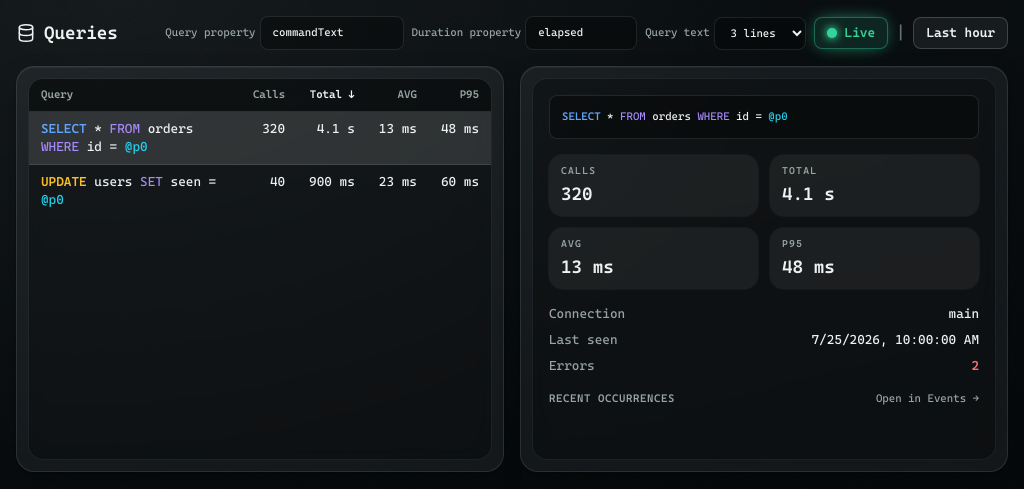
clicking another row swaps the detail pane
This screenshot has width=1024, height=489.
Click the cell titled "UPDATE users SET seen = @p0": click(135, 191) [29,164,241,217]
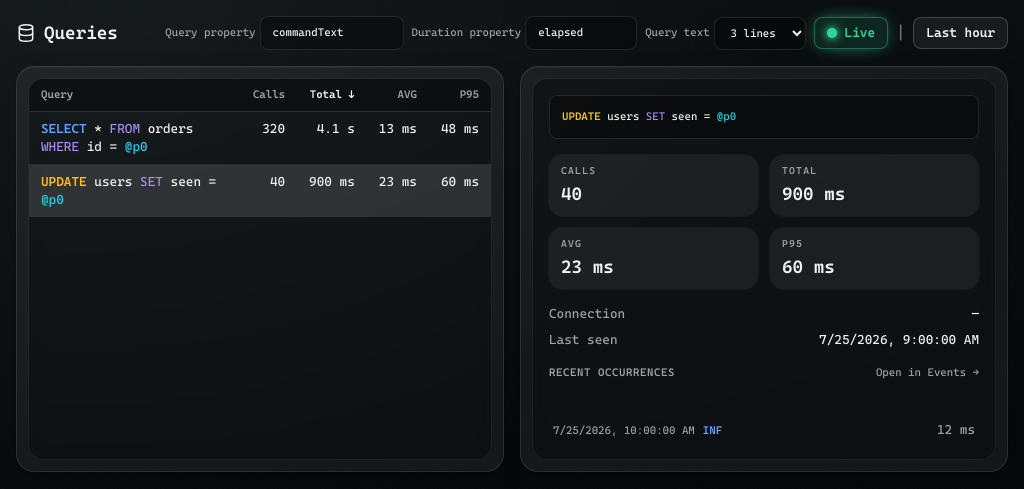
Now the 1st element showing "UPDATE users SET seen = @p0" is shown, box [549,95,979,139]
